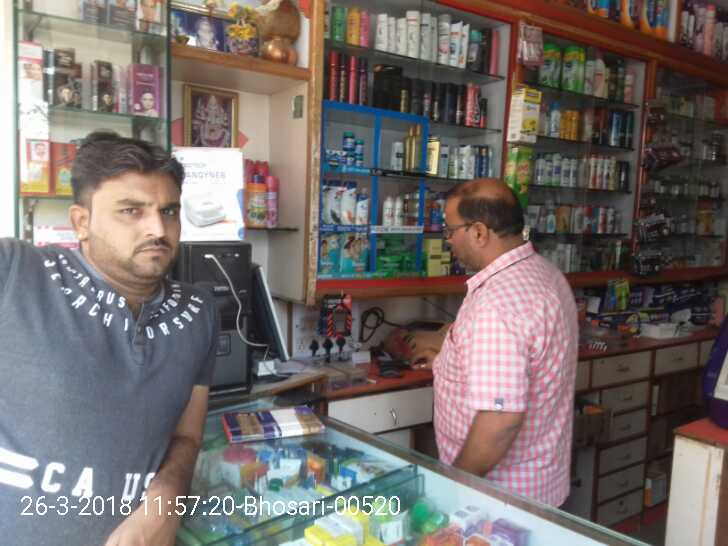vicks: (326, 129, 364, 165)
